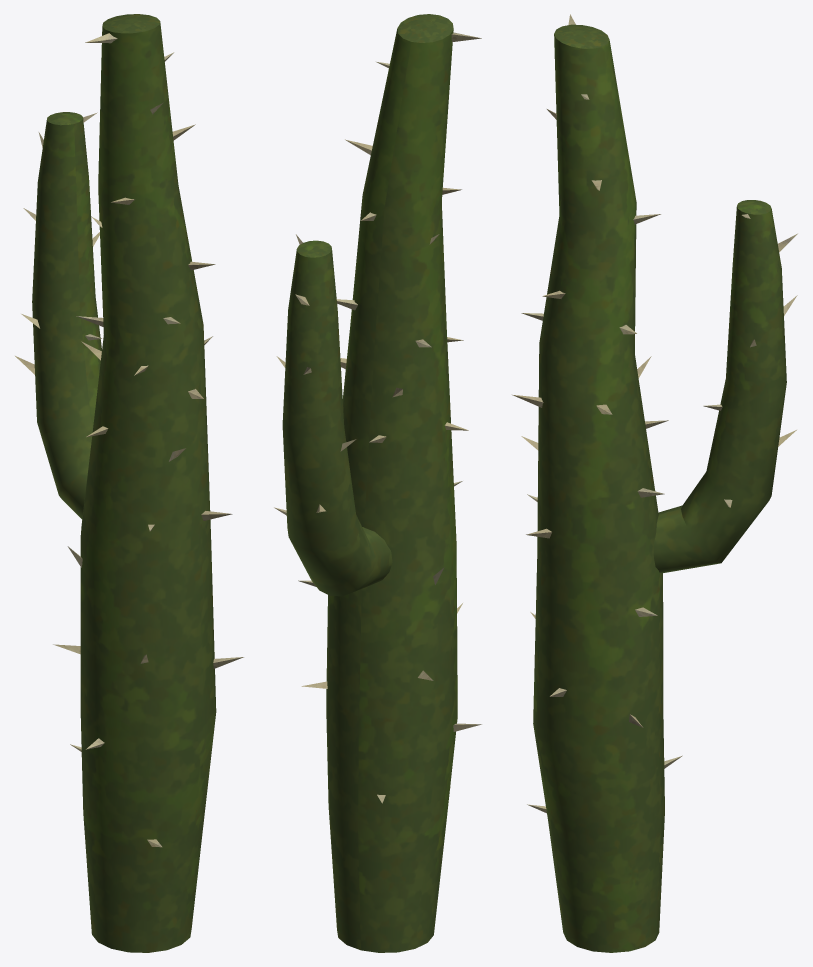
Rendered from Sm_CactusVer4.fbx.
The picture shows the model from 3 angles, left to right: view 1: azimuth 30°, elevation 25°; view 2: azimuth 150°, elevation 25°; view 3: azimuth 270°, elevation 25°; orthographic projection. The views are drawn at different scales.
Parts seen in each view (by area): view 1: Sm_CactusVer4; view 2: Sm_CactusVer4; view 3: Sm_CactusVer4.
Part boxes in pixels (<box>): Sm_CactusVer4: <box>15,14,243,952</box>; Sm_CactusVer4: <box>274,14,481,952</box>; Sm_CactusVer4: <box>512,14,797,952</box>.
Size of the model in its own units: 34.42 by 203 by 59.48.
